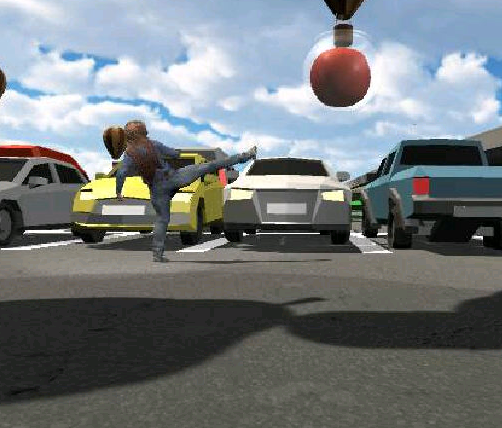turn_right: (108, 112, 258, 262)
